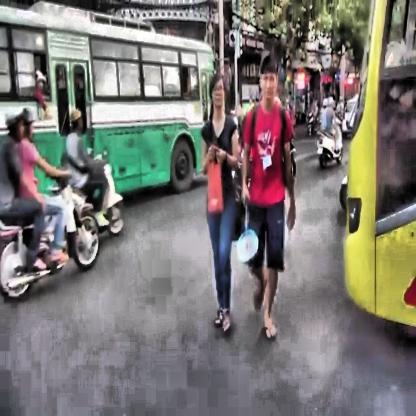not_wear: (260, 54, 279, 105), (208, 72, 228, 109)
